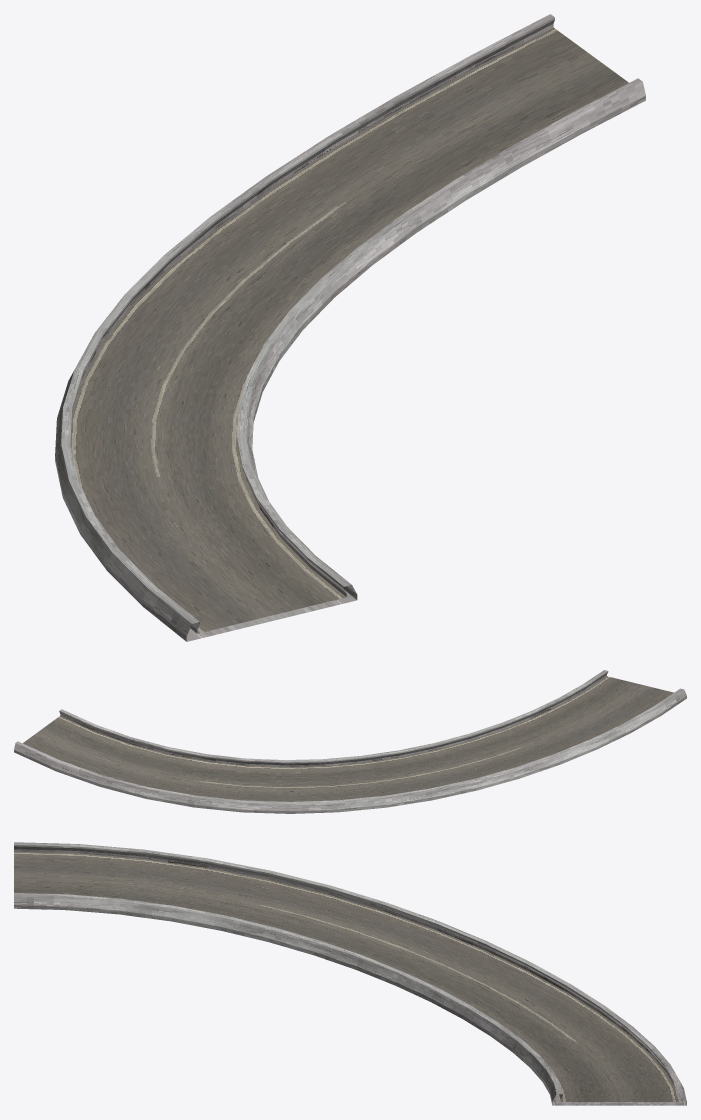
Rendered from road-Turn-Flat-BiSlopeUp-Up1-Right-Size5.glb.
3 renders of one model, top to bottom at view 1: azimuth 30°, elevation 25°; view 2: azimuth 150°, elevation 25°; view 3: azimuth 270°, elevation 25°, orthographic. The views are drawn at different scales.
Visible parts, largest first — view 1: road-Turn-Flat-BiSlopeUp-Up1-Right-Size5; view 2: road-Turn-Flat-BiSlopeUp-Up1-Right-Size5; view 3: road-Turn-Flat-BiSlopeUp-Up1-Right-Size5.
Part boxes in pixels (box(x1,y1,x2,y2)): road-Turn-Flat-BiSlopeUp-Up1-Right-Size5: box(55, 14, 645, 641); road-Turn-Flat-BiSlopeUp-Up1-Right-Size5: box(14, 670, 686, 813); road-Turn-Flat-BiSlopeUp-Up1-Right-Size5: box(14, 842, 686, 1105).
Bounding box in the file's own units: 5 × 0.482 × 5.
Materials: 2 (2 with a texture image).
